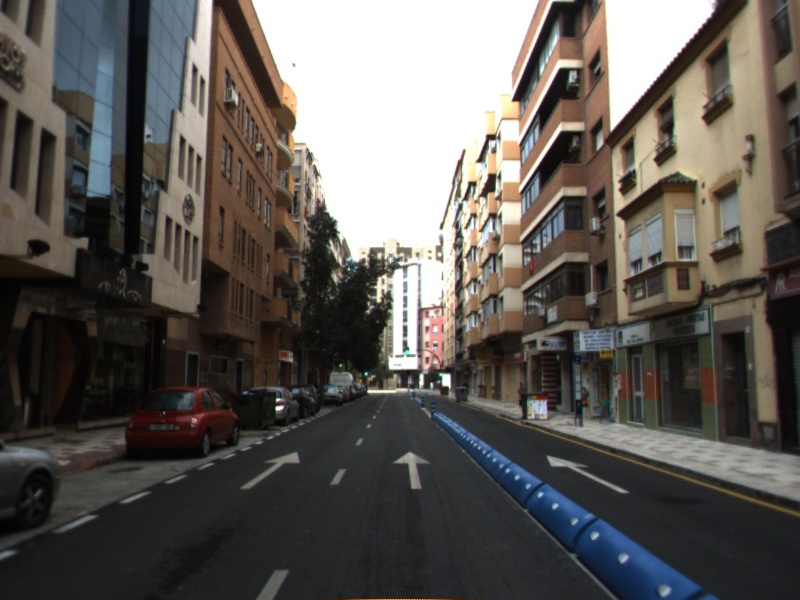STRAIGHT: (545, 453, 631, 495), (238, 450, 302, 491), (391, 449, 432, 491)
